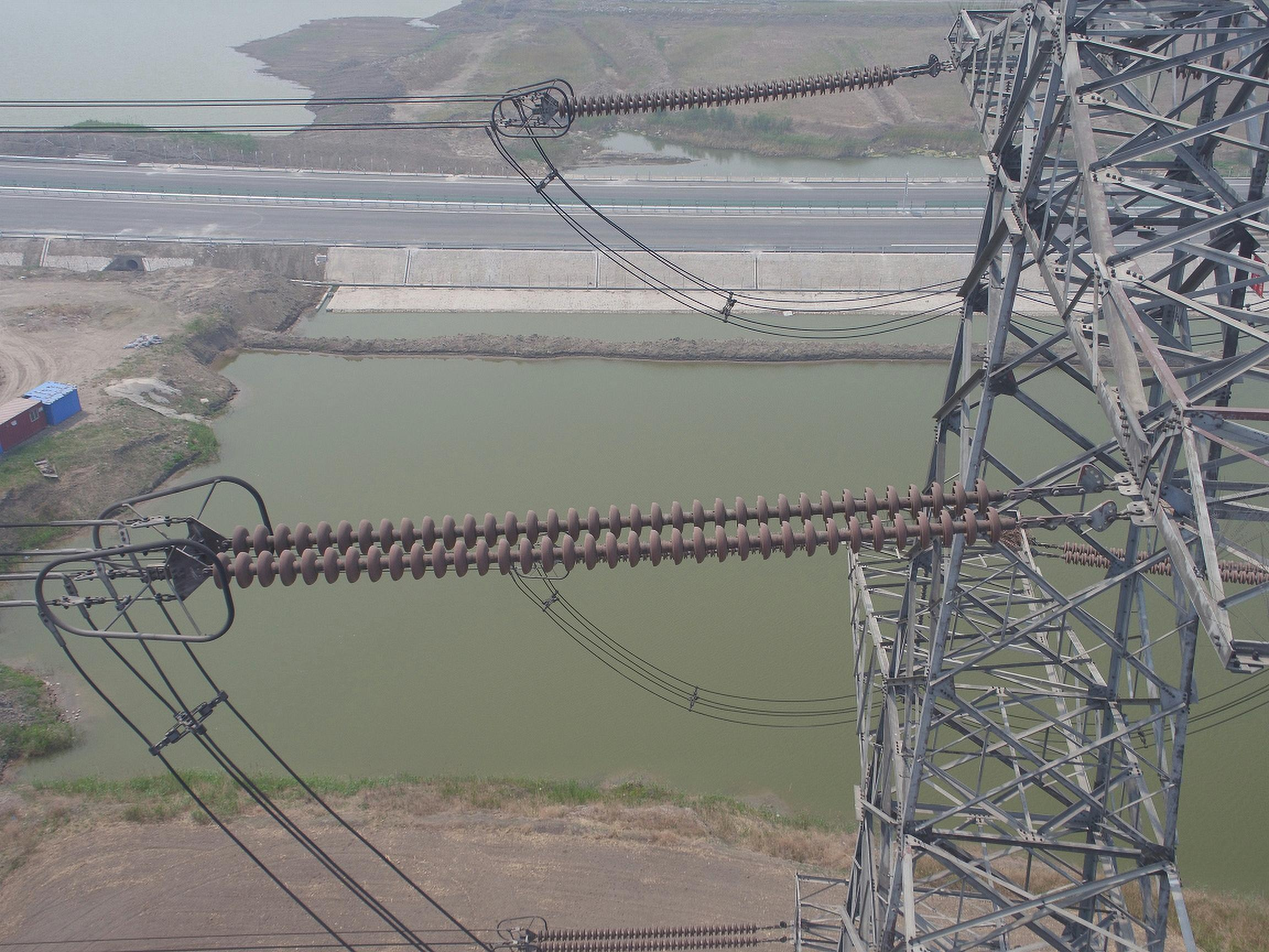insulator: (206, 473, 1004, 594), (555, 60, 897, 120), (1061, 538, 1269, 588), (534, 919, 760, 952)
